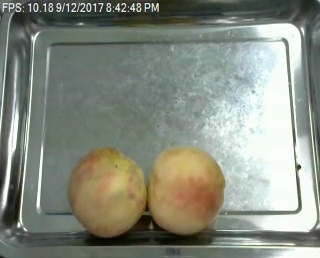Peach: (67, 145, 146, 238), (148, 144, 225, 235)
